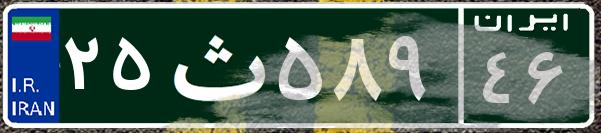2: (57, 26, 110, 107)
4: (475, 38, 525, 113)
5: (273, 28, 330, 110), (110, 28, 158, 105)
6: (525, 38, 570, 115)
8: (330, 28, 385, 110)
9: (385, 28, 445, 110)
ث: (158, 15, 273, 115)
